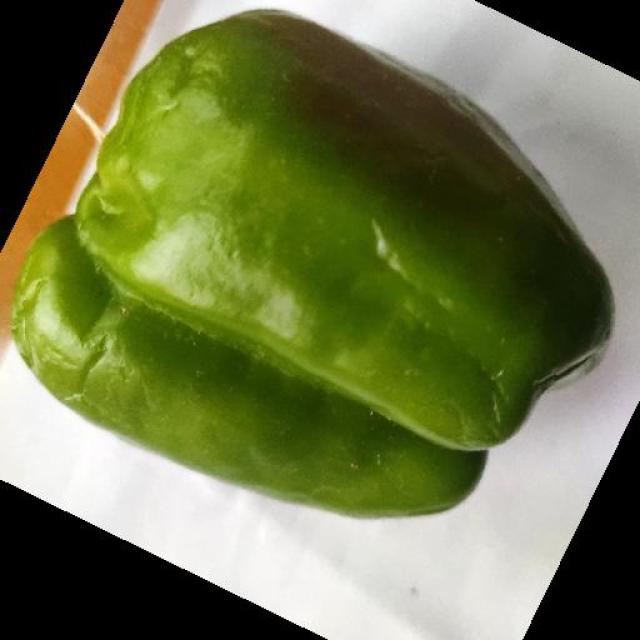Stale_Capsicum: (14, 3, 546, 501)
